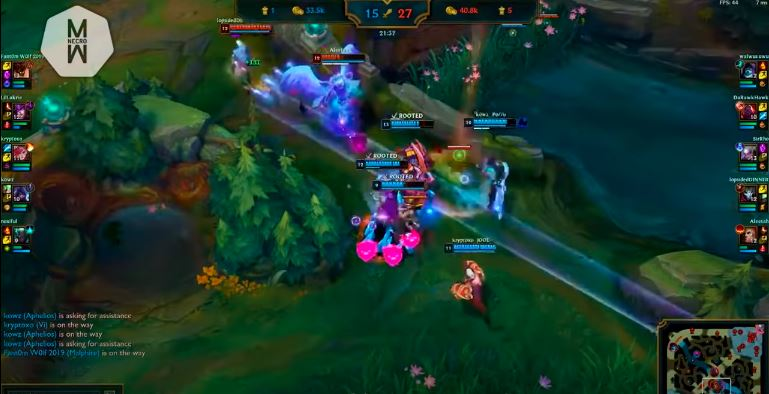bar: (442, 240, 500, 256), (217, 21, 274, 37), (309, 51, 369, 66), (371, 179, 428, 194), (378, 117, 436, 131), (462, 116, 518, 130), (353, 160, 412, 171)
